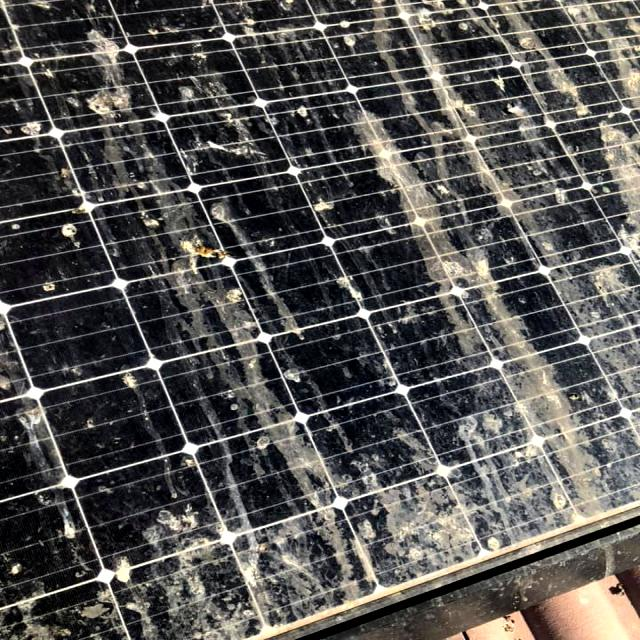bird: (144, 426, 260, 610), (274, 78, 414, 224), (288, 270, 424, 418), (458, 132, 622, 252), (0, 149, 103, 337), (284, 446, 424, 566), (0, 489, 110, 640), (474, 391, 612, 507), (482, 4, 616, 122), (18, 20, 153, 136), (453, 271, 616, 362), (116, 180, 208, 335), (308, 2, 466, 68), (208, 267, 284, 398)
